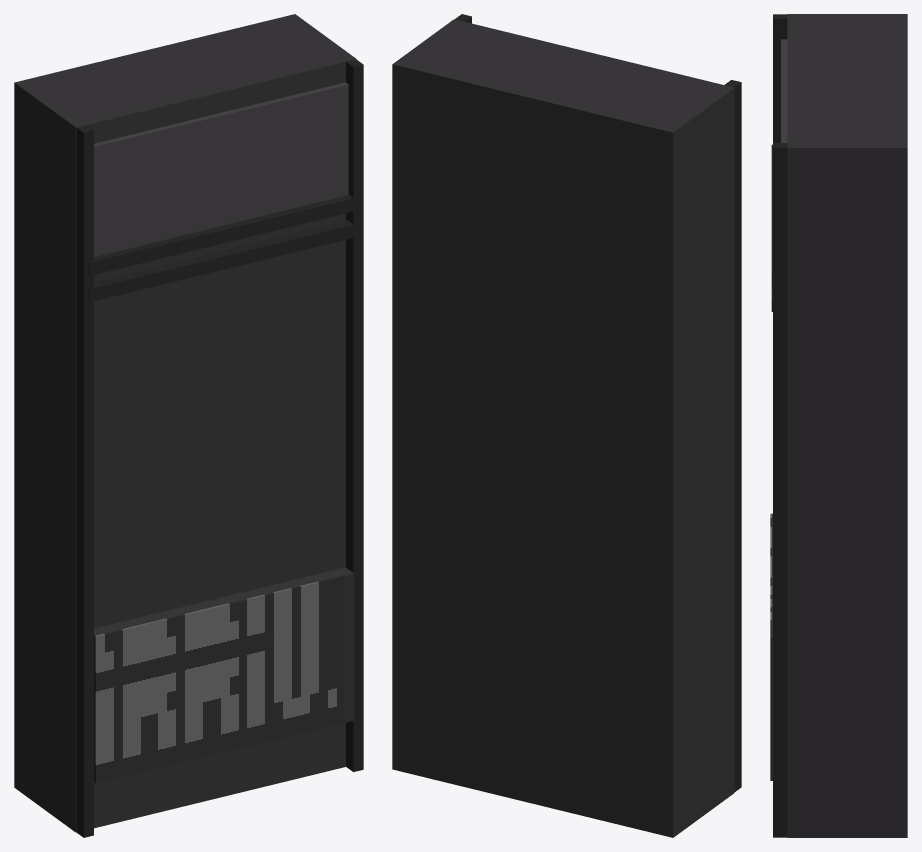
Rendered from CMU3DInheritedStructureRMCWallElevatorArrivalsCloud.glb.
3 renders of one model, left to right at view 1: azimuth 30°, elevation 25°; view 2: azimuth 150°, elevation 25°; view 3: azimuth 270°, elevation 25°, orthographic. The views are drawn at different scales.
Visible parts, largest first — view 1: wall structural backing, original arrivals legend, upper recessed fascia, outer stile -0.48, outer stile 0.48, upper rail 1.82, upper rail 1.91, legend plate solid backing; view 2: wall structural backing, outer stile -0.48; view 3: wall structural backing, outer stile 0.48, outer stile -0.48, upper recessed fascia, original arrivals legend, upper rail 1.91.
Boxes of the visible parts, x1,y1,x2,y2 form: wall structural backing: [14, 14, 356, 832]; original arrivals legend: [95, 573, 354, 783]; upper recessed fascia: [94, 82, 348, 256]; outer stile -0.48: [76, 125, 93, 837]; outer stile 0.48: [346, 59, 363, 771]; upper rail 1.82: [89, 220, 358, 302]; upper rail 1.91: [89, 194, 358, 275]; legend plate solid backing: [94, 567, 352, 782]; wall structural backing: [392, 19, 734, 837]; outer stile -0.48: [724, 80, 741, 791]; wall structural backing: [787, 14, 907, 837]; outer stile 0.48: [773, 143, 787, 837]; outer stile -0.48: [773, 14, 787, 142]; upper recessed fascia: [781, 39, 787, 142]; original arrivals legend: [770, 513, 772, 780]; upper rail 1.91: [771, 144, 772, 286].
Size of the model in its own units: 1 by 2.4 by 0.434.
4 materials, 1 textured.
